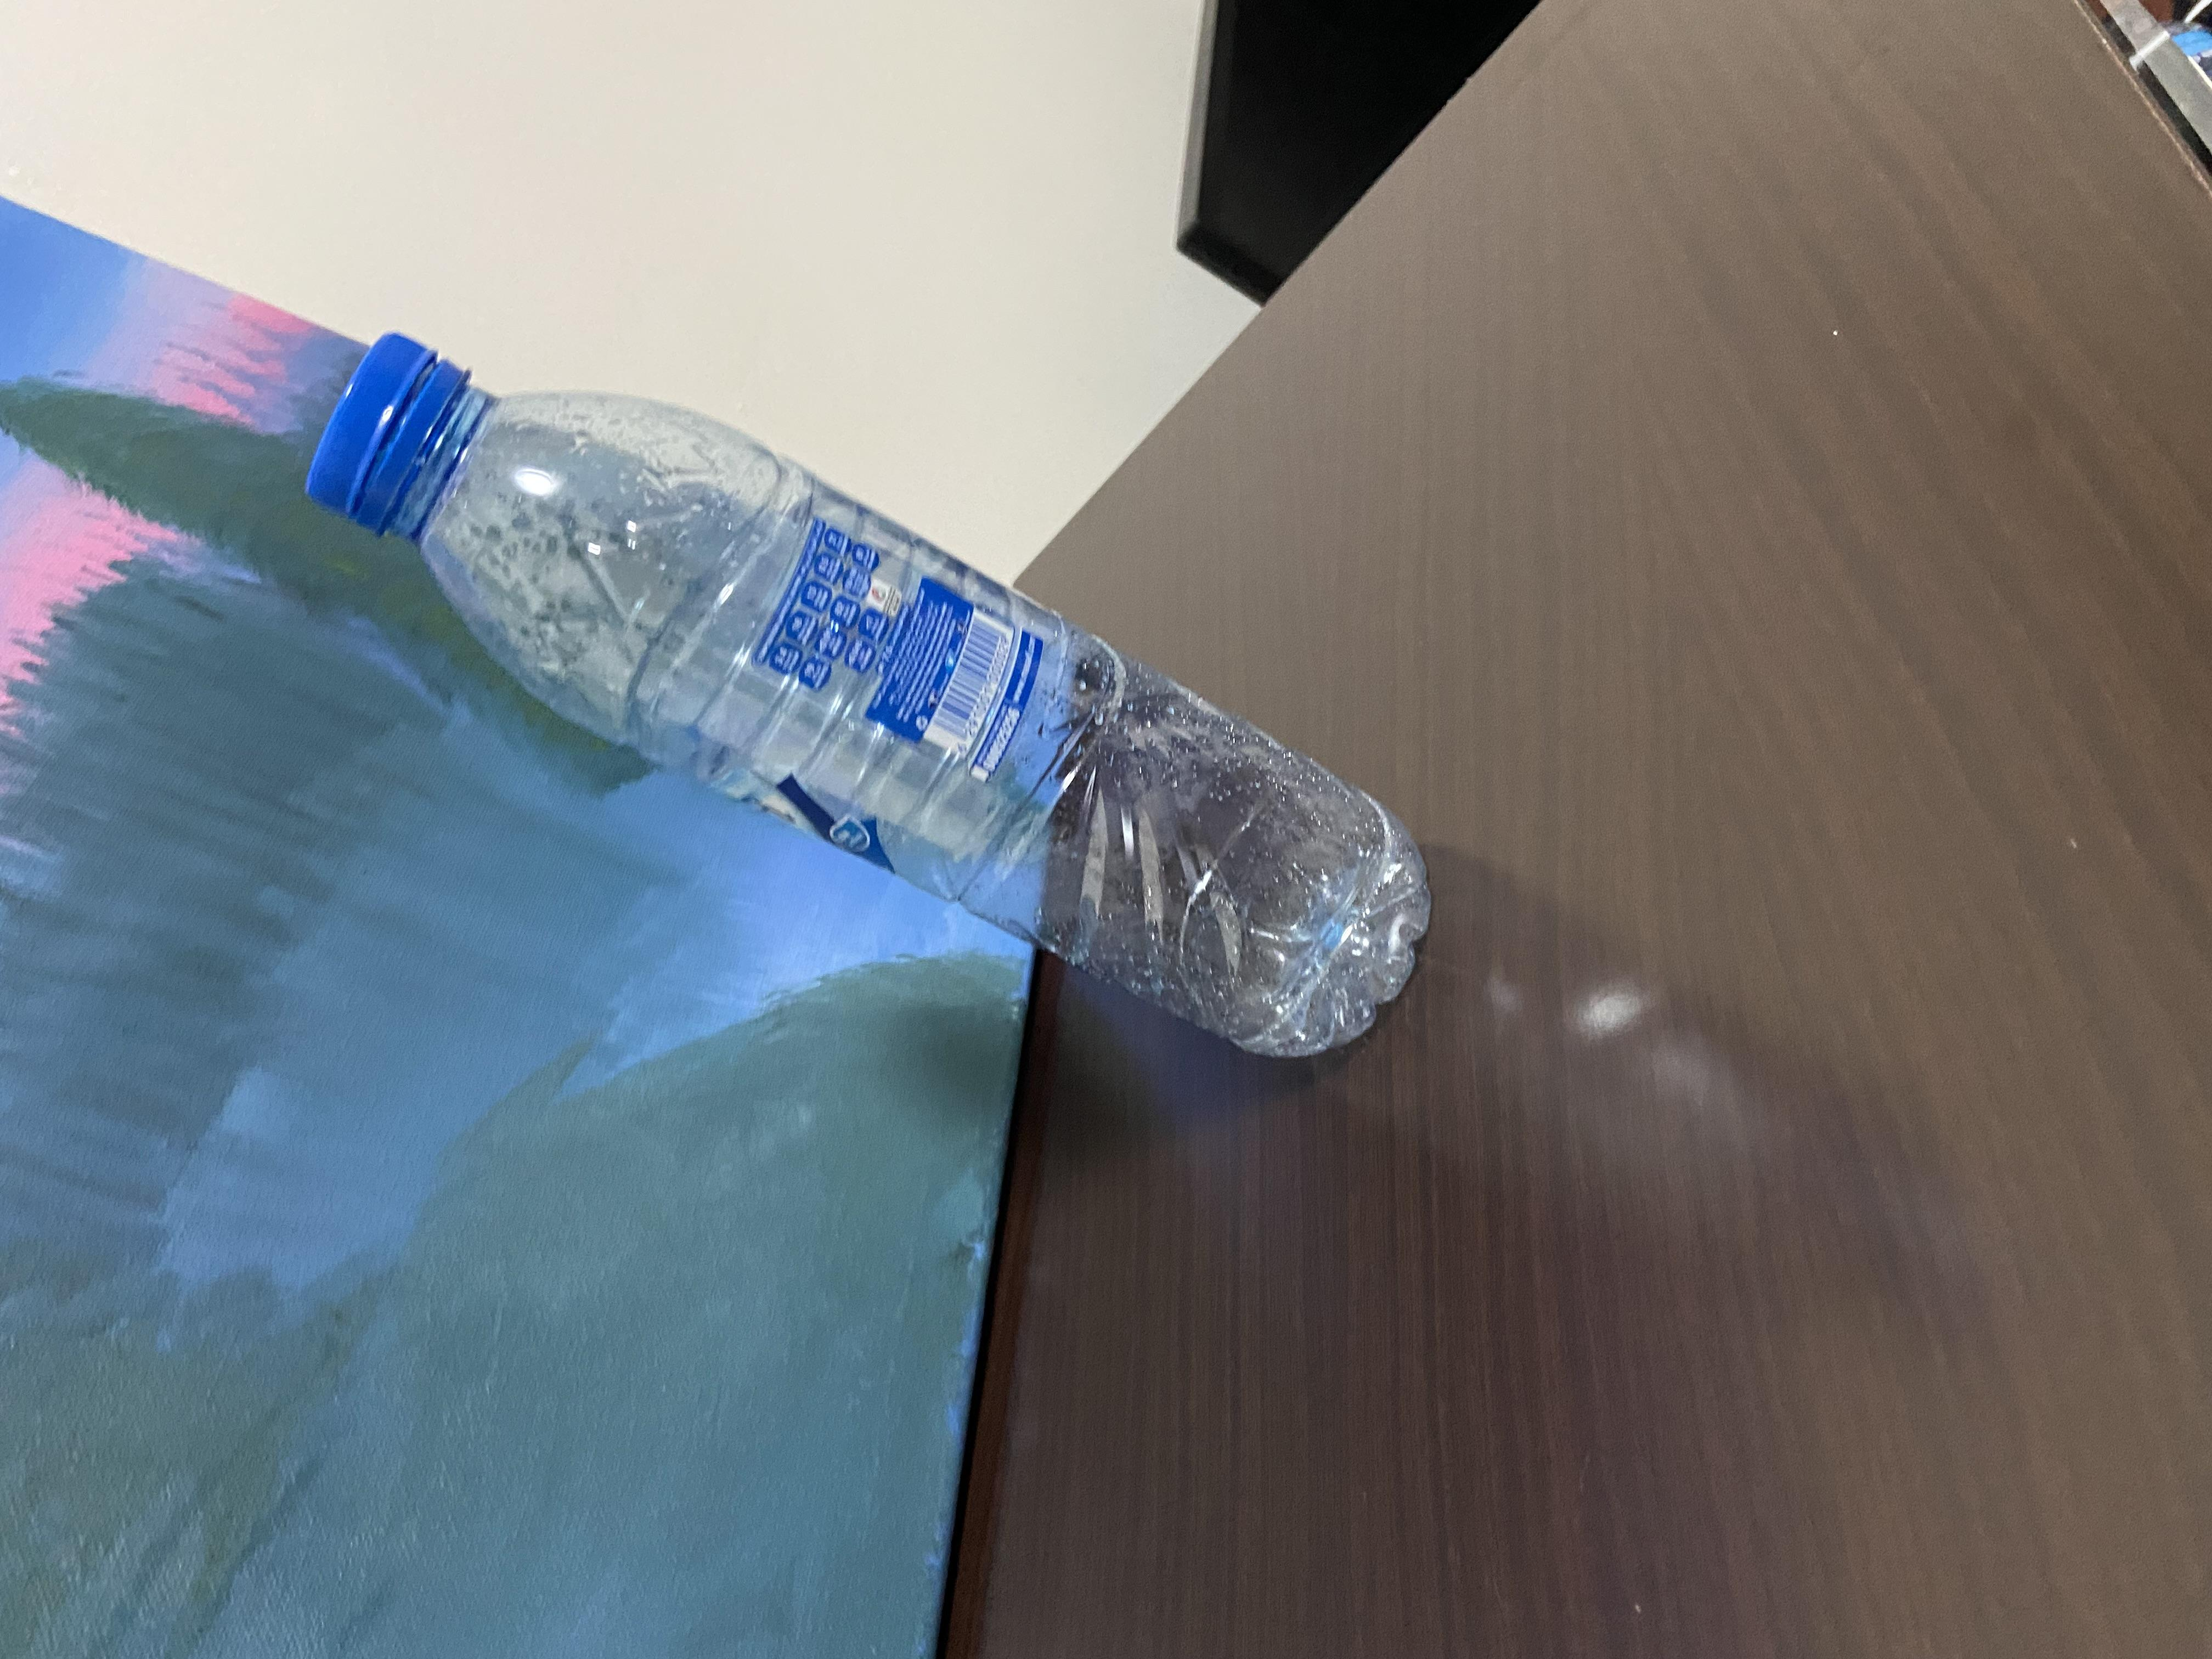bottle: (758, 220, 1810, 1108)
